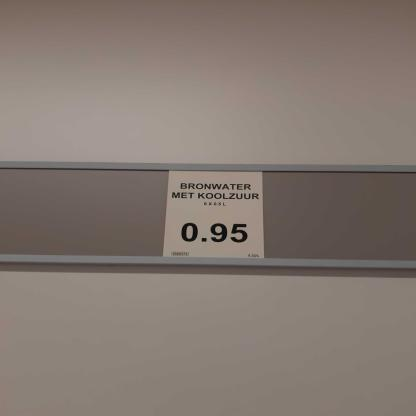prtg: (163, 171, 266, 259)
